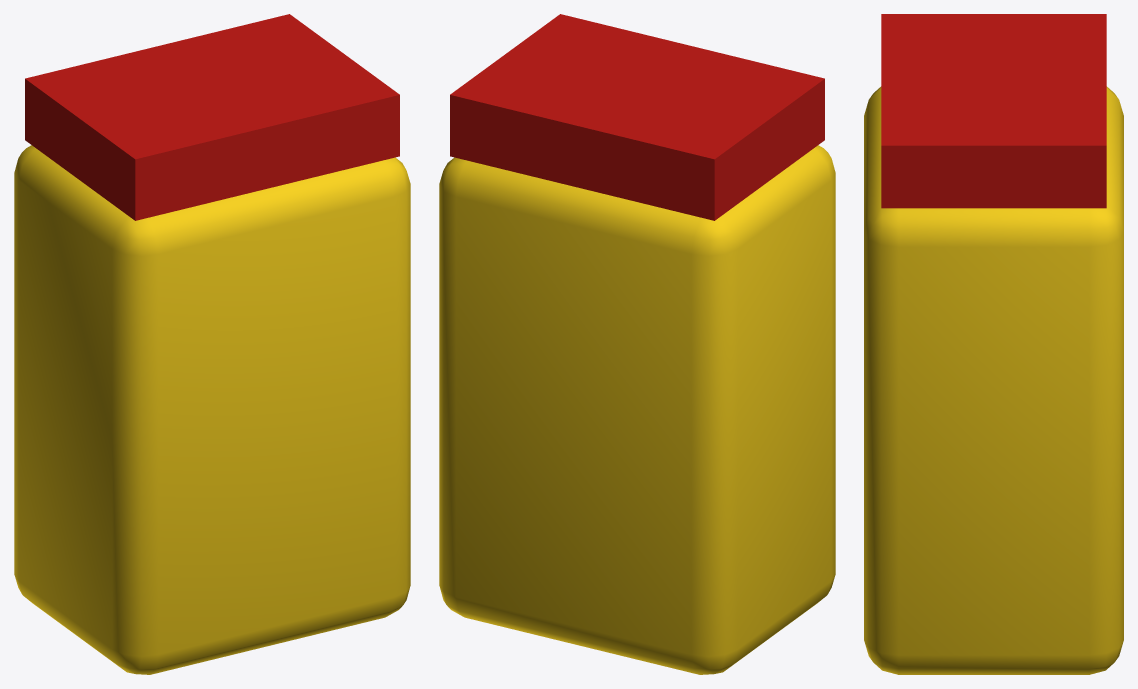
File: hospital.ward.sharps_bin.glb
3 renders of one model, left to right at view 1: azimuth 30°, elevation 25°; view 2: azimuth 150°, elevation 25°; view 3: azimuth 270°, elevation 25°, orthographic.
Visible parts, largest first — view 1: main__plastic_yellow, main__plastic_red; view 2: main__plastic_yellow, main__plastic_red; view 3: main__plastic_yellow, main__plastic_red.
Boxes of the visible parts, x1,y1,x2,y2 form: main__plastic_yellow: (14,145,410,674); main__plastic_red: (25,14,399,220); main__plastic_yellow: (439,145,835,674); main__plastic_red: (450,14,824,220); main__plastic_yellow: (864,86,1123,674); main__plastic_red: (881,14,1106,208).
Size of the model in its own units: 0.2 by 0.34 by 0.15.
